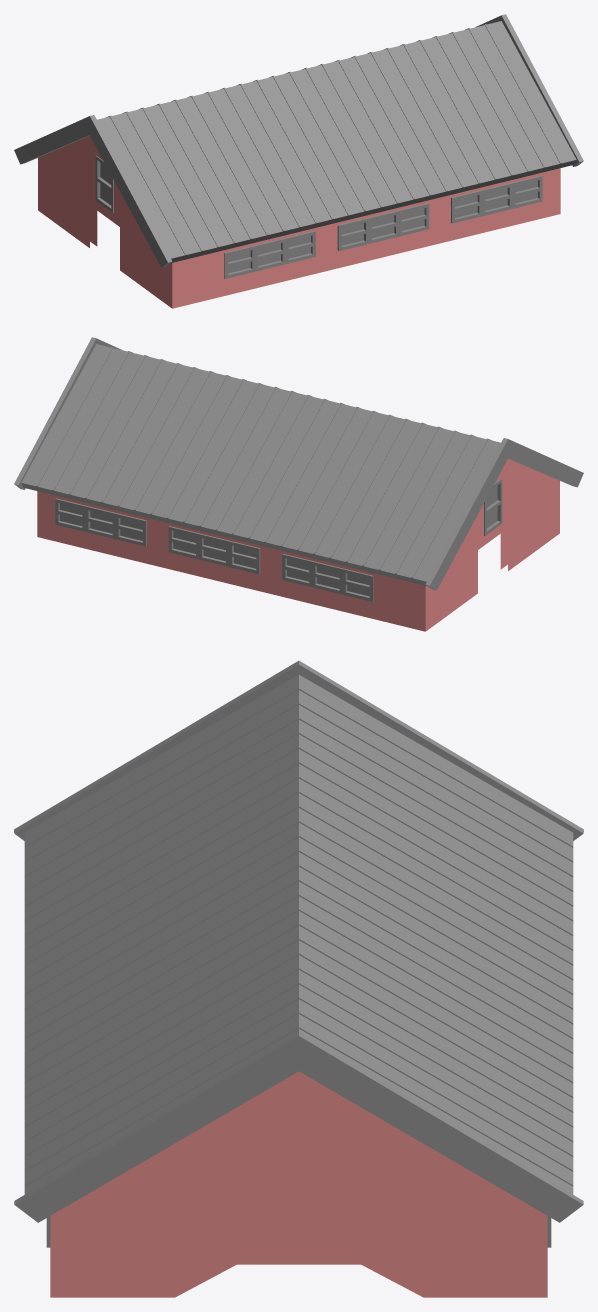
The model's file is BoatHouse_Top.fbx.
The picture shows the model from 3 angles, top to bottom: view 1: azimuth 30°, elevation 25°; view 2: azimuth 150°, elevation 25°; view 3: azimuth 270°, elevation 25°; orthographic projection. The views are drawn at different scales.
Visible parts, largest first — view 1: SM_BoatHouse01_Boathouse_Top; view 2: SM_BoatHouse01_Boathouse_Top; view 3: SM_BoatHouse01_Boathouse_Top.
Boxes of the visible parts, bbox=[...] form: SM_BoatHouse01_Boathouse_Top: bbox=[14, 14, 583, 308]; SM_BoatHouse01_Boathouse_Top: bbox=[14, 337, 583, 631]; SM_BoatHouse01_Boathouse_Top: bbox=[14, 660, 583, 1297].
Size of the model in its own units: 1382 by 466 by 883.
